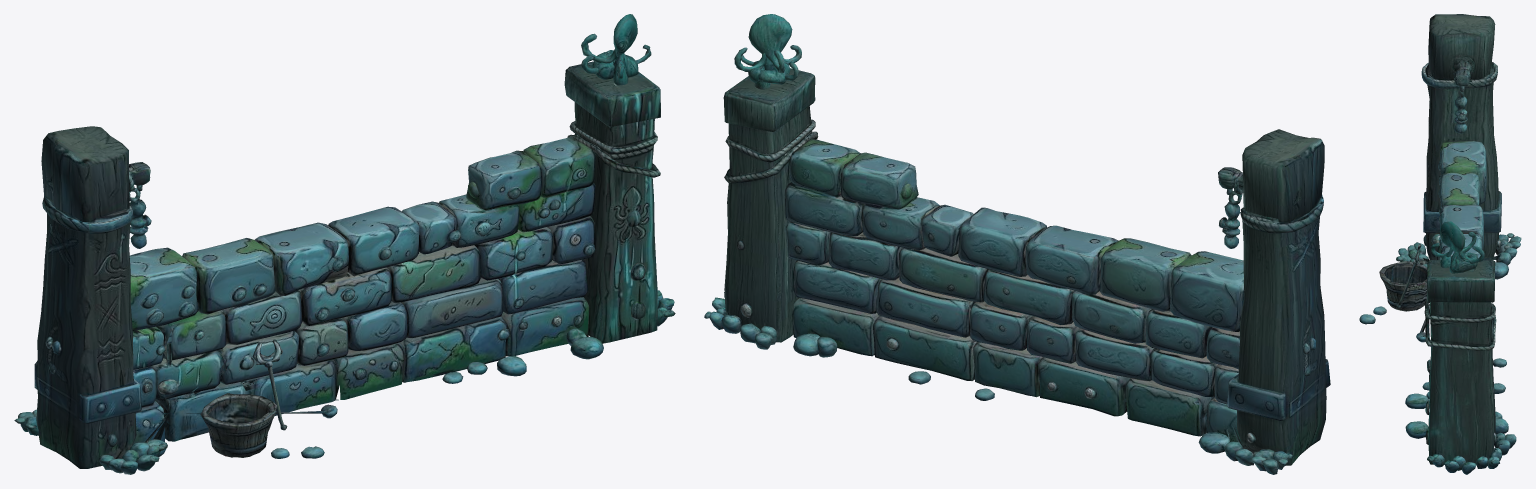
File: cs_muro_inteiro.glb
3 renders of one model, left to right at view 1: azimuth 30°, elevation 25°; view 2: azimuth 150°, elevation 25°; view 3: azimuth 270°, elevation 25°, orthographic. The views are drawn at different scales.
Visible parts, largest first — view 1: mesh_node; view 2: mesh_node; view 3: mesh_node.
Part boxes in pixels (left/top/right/bottom): mesh_node: left=14, top=14, right=675, bottom=474; mesh_node: left=704, top=14, right=1330, bottom=474; mesh_node: left=1359, top=14, right=1521, bottom=474.
Bounding box in the file's own units: 1 × 0.4834 × 0.2979.
1 material, 1 textured.
